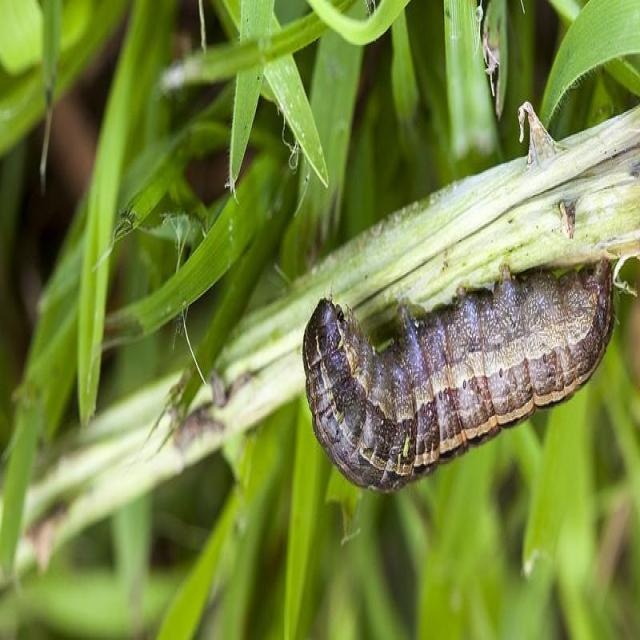army worm: (293, 238, 618, 509)
